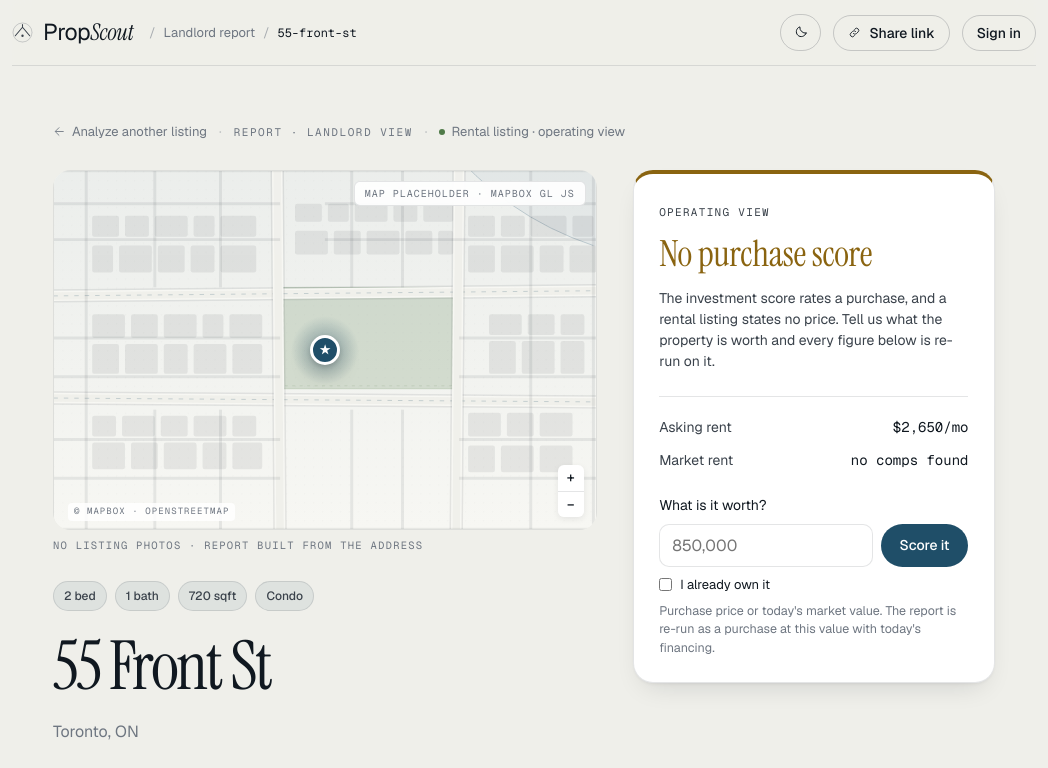
Test: ReportPage — a landlord states the value and the report is re-run on it (D-107) › shows the API’s message when the re-run fails and keeps the operating view
Step 1. Type "800000" into the field labelled "What is it worth?" → coordinates (766, 545), box [659, 524, 873, 567]
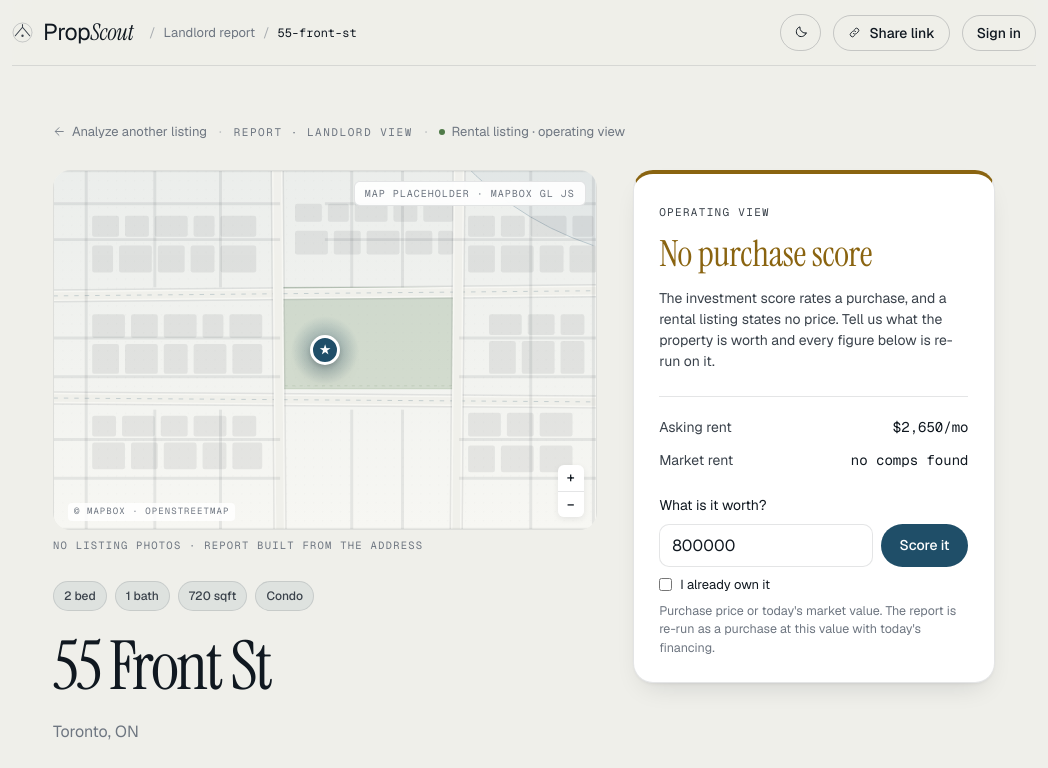
Step 2. Click the button "Score it" → coordinates (924, 545), box [881, 524, 968, 567]
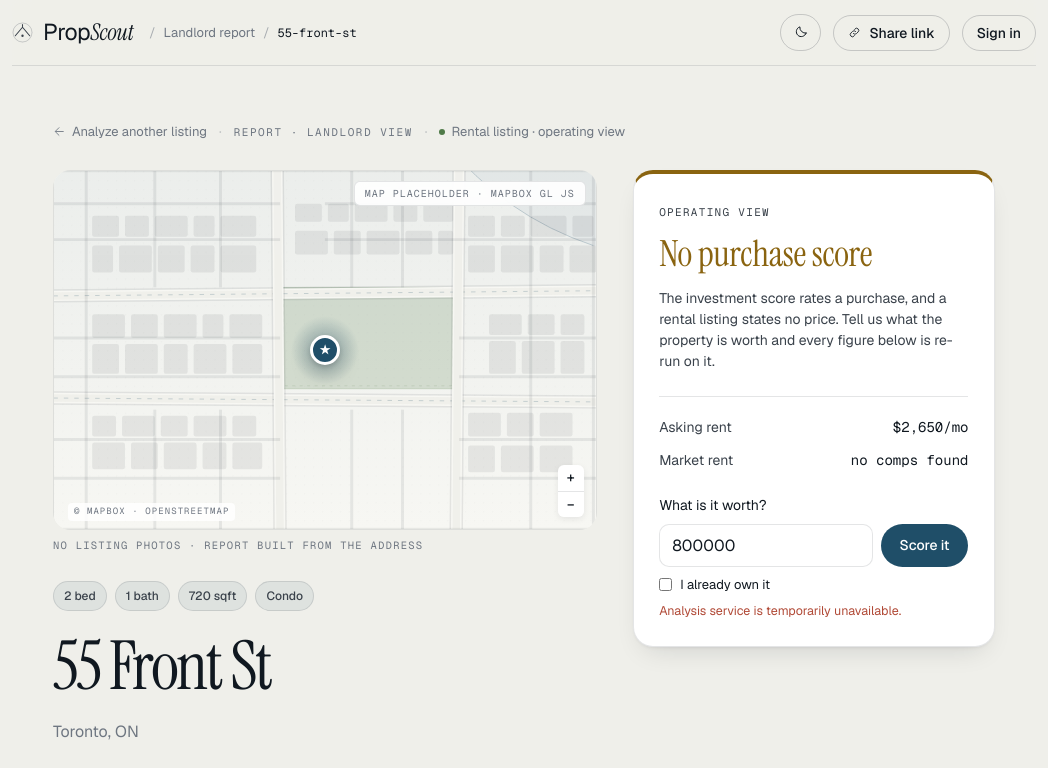
Expected: the heading "No purchase score" is shown, [659, 230, 872, 277]
Now the text "Analysis service is temporarily unavailable." is shown, box [659, 602, 901, 619]
